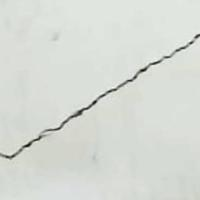crack: (0, 30, 199, 165)
